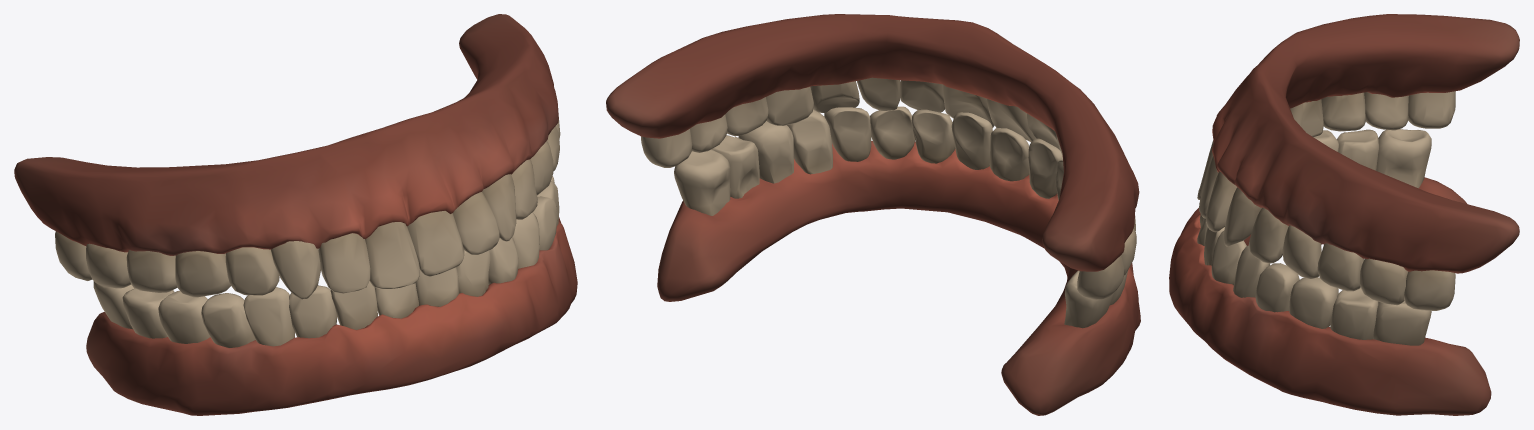
3 renders of one model, left to right at view 1: azimuth 30°, elevation 25°; view 2: azimuth 150°, elevation 25°; view 3: azimuth 270°, elevation 25°, orthographic. The views are drawn at different scales.
Visible parts, largest first — view 1: Teeth; view 2: Teeth; view 3: Teeth.
Boxes of the visible parts, left/top/right/bottom form: Teeth: left=14, top=14, right=577, bottom=415; Teeth: left=606, top=14, right=1140, bottom=415; Teeth: left=1169, top=14, right=1519, bottom=415.
Bounding box in the file's own units: 0.1382 × 0.0733 × 0.0864.
